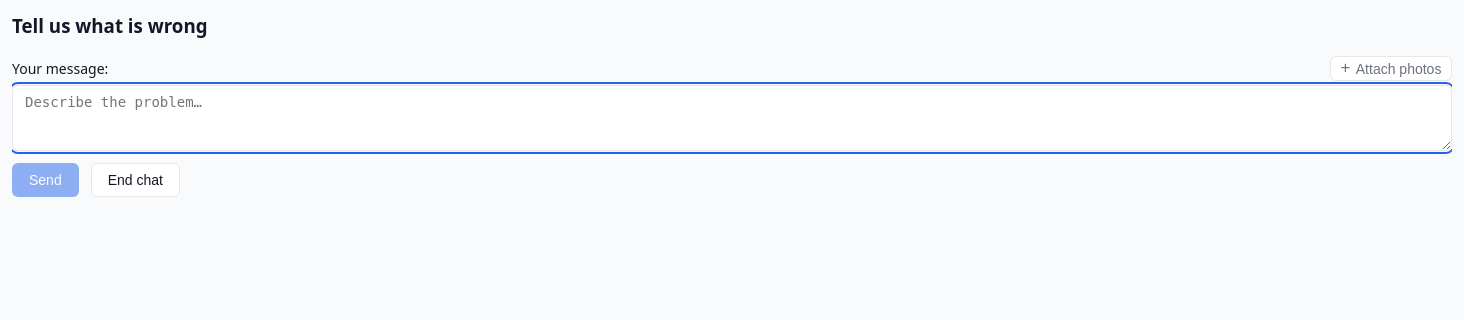
Test: TriageChat › offers no document when the turn matched nothing well enough
Type "What time does the office open?" into the text box at (732, 118), box [12,85,1452,151]
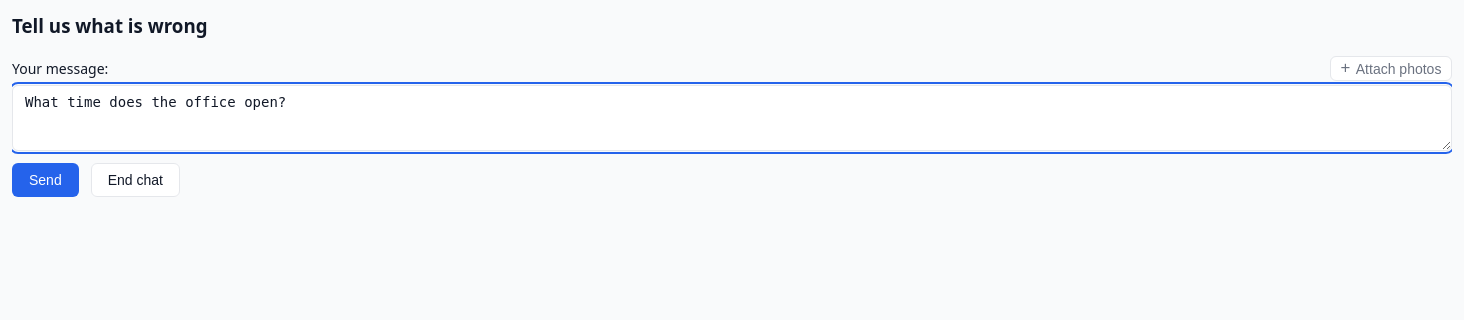
Click the button "Send" at (45, 180), box [12,163,79,197]
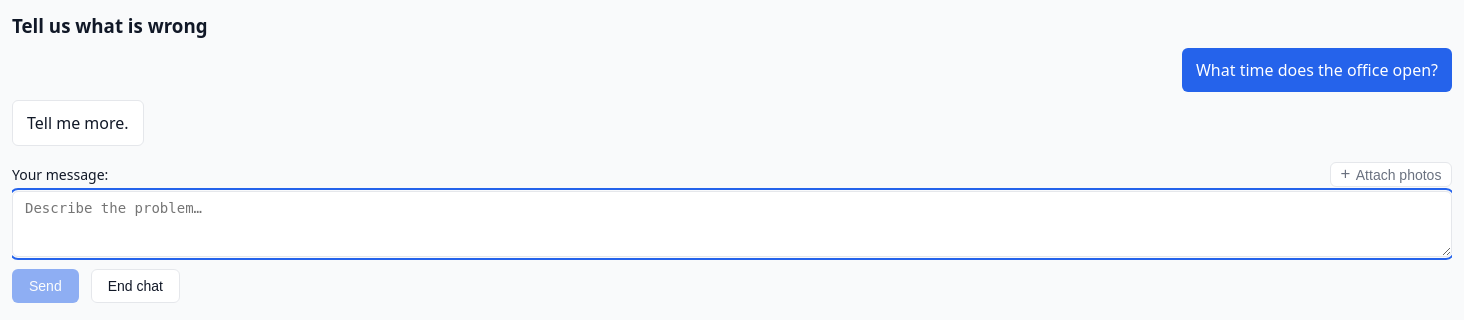
expect the list item "Tell me more." is shown: met, box [12,100,144,146]
